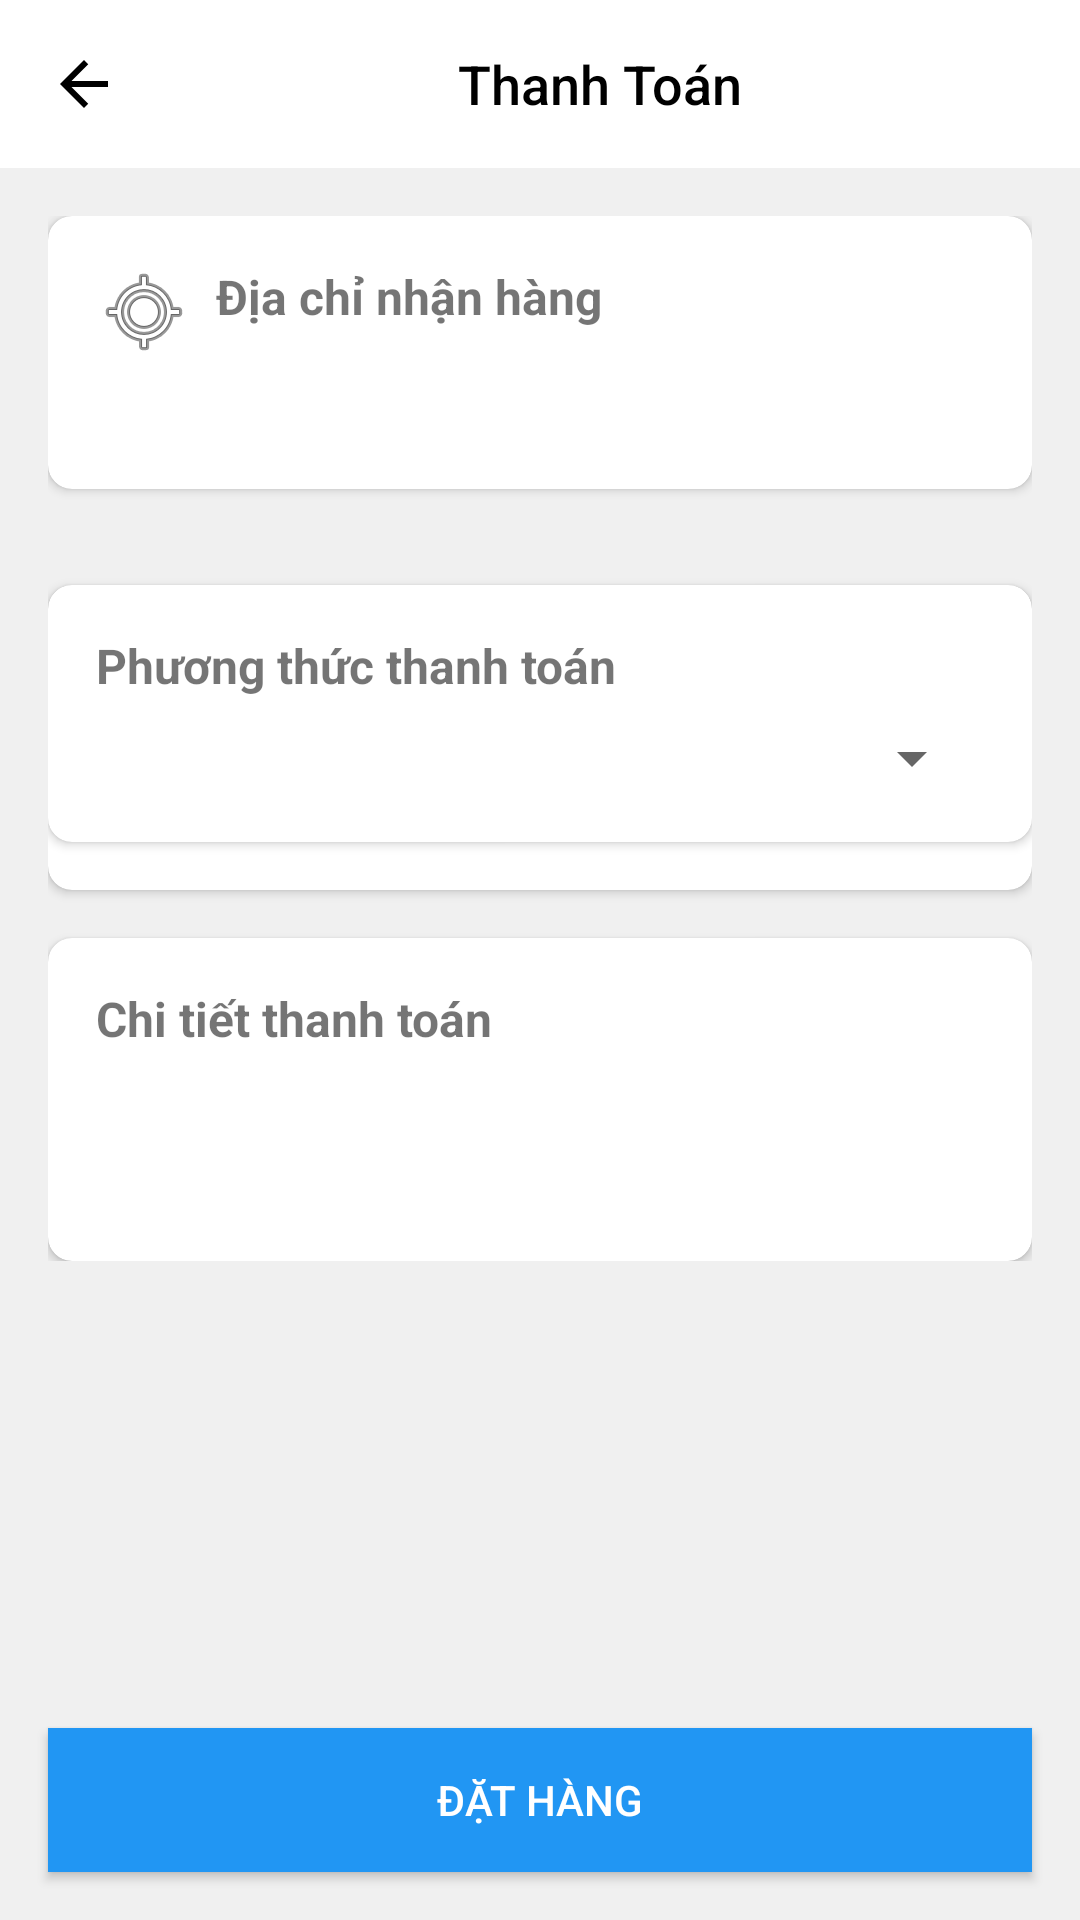

Icon bounding boxes for this 1080w x 1920h phone screenshot, format (x1, y1, x2, y2):
Back button: (60, 60, 108, 108)
